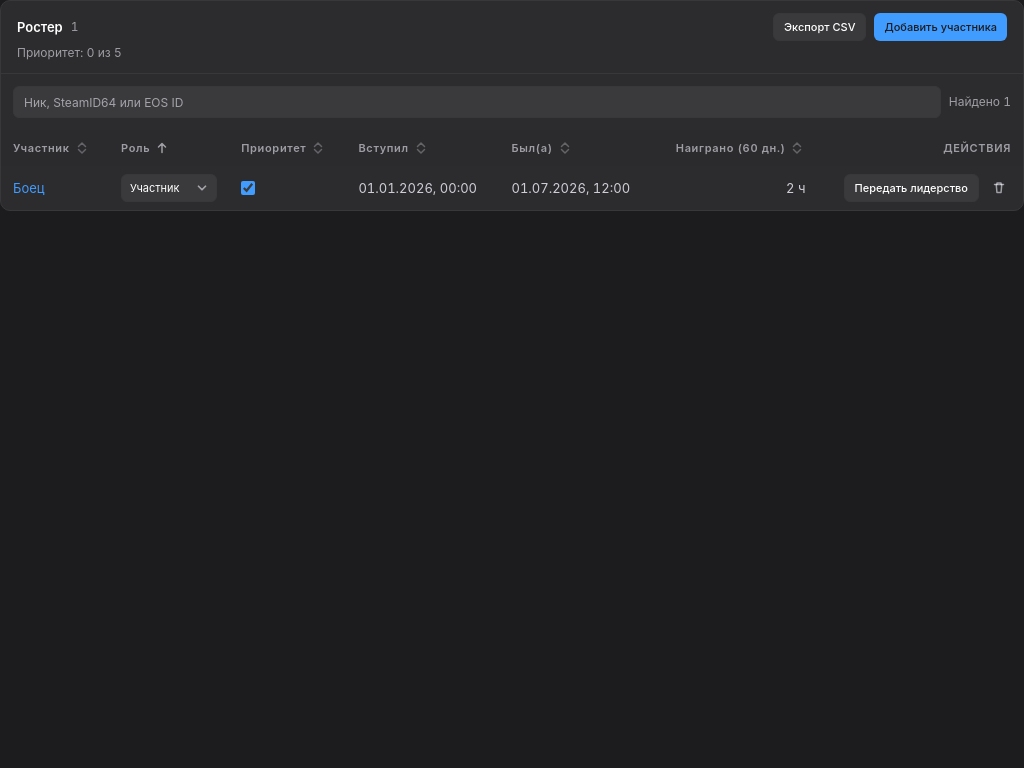
RosterPanel — подтверждение удаления › оставляет участника в клане, если подтверждение отменили
This screenshot has width=1024, height=768.
What coordinates should you click on to do the following:
click the button named "Удалить Боец из клана"
I would click on:
 (999, 188)
Its box is left=987, top=176, right=1011, bottom=200.
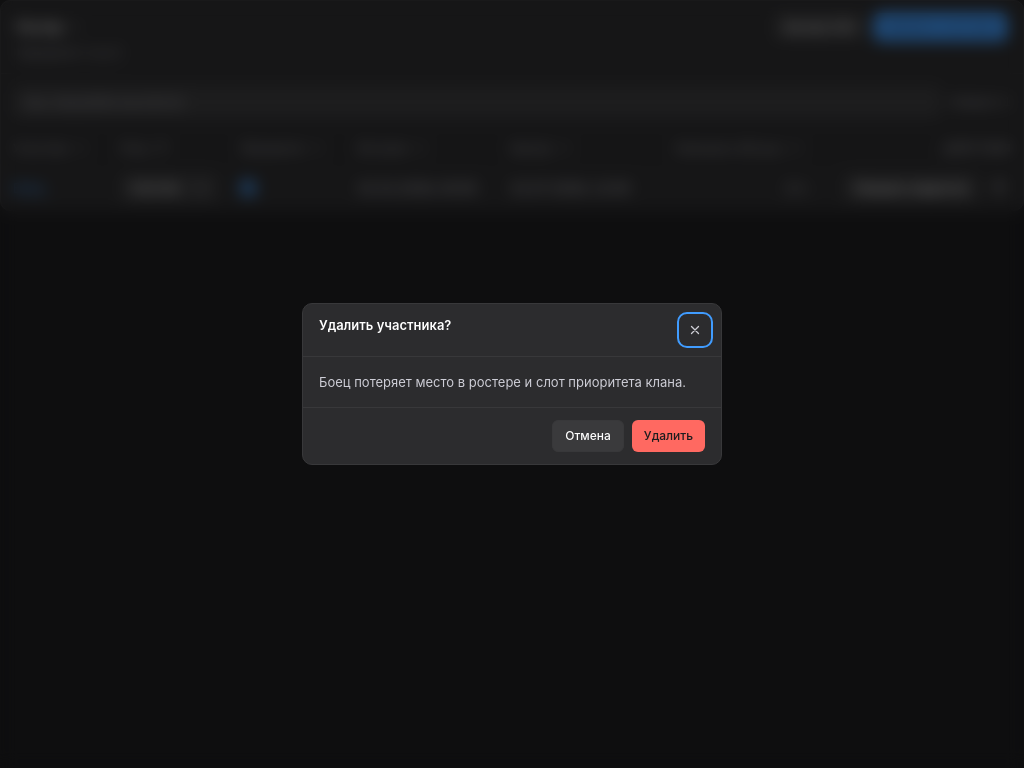
What coordinates should you click on to do the following:
click the button named "Отмена"
I would click on:
 (695, 330)
Its box is left=681, top=316, right=709, bottom=344.
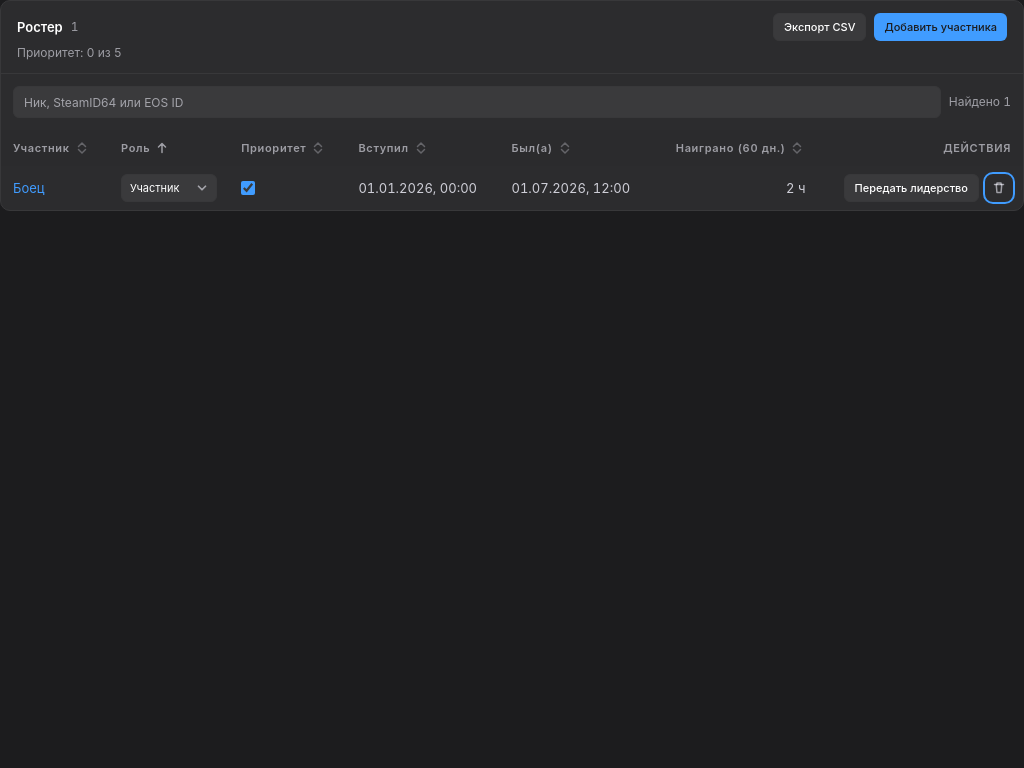
Result: the heading "Удалить участника?" is gone
